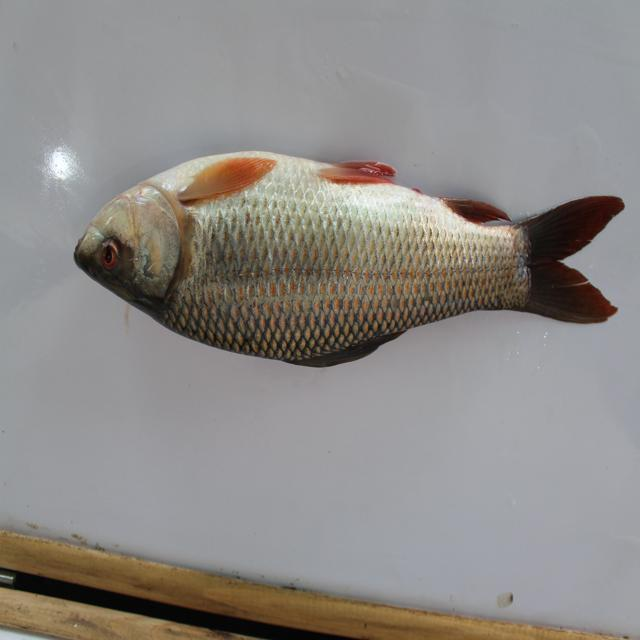Rohu: (70, 139, 630, 380)
